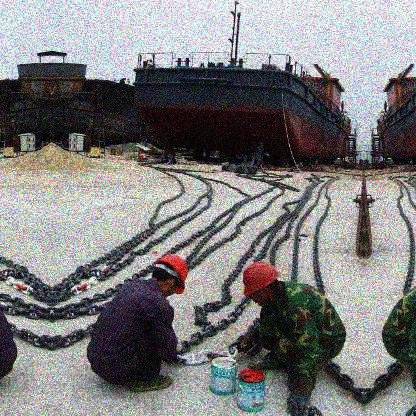helmet: (150, 255, 191, 298), (242, 261, 279, 307)
